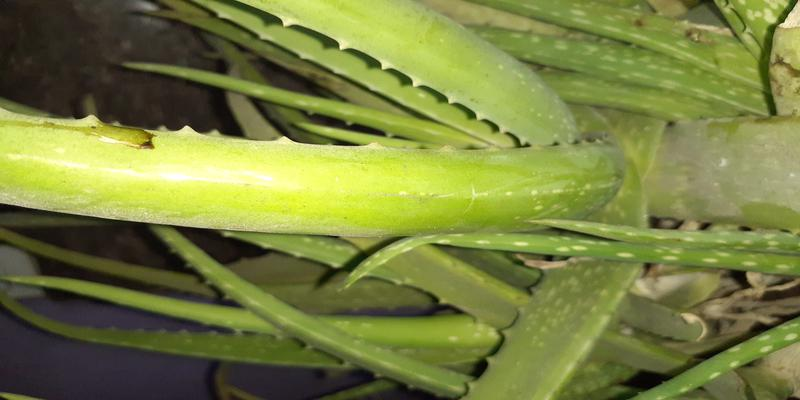Aloevera: (338, 28, 786, 382)
